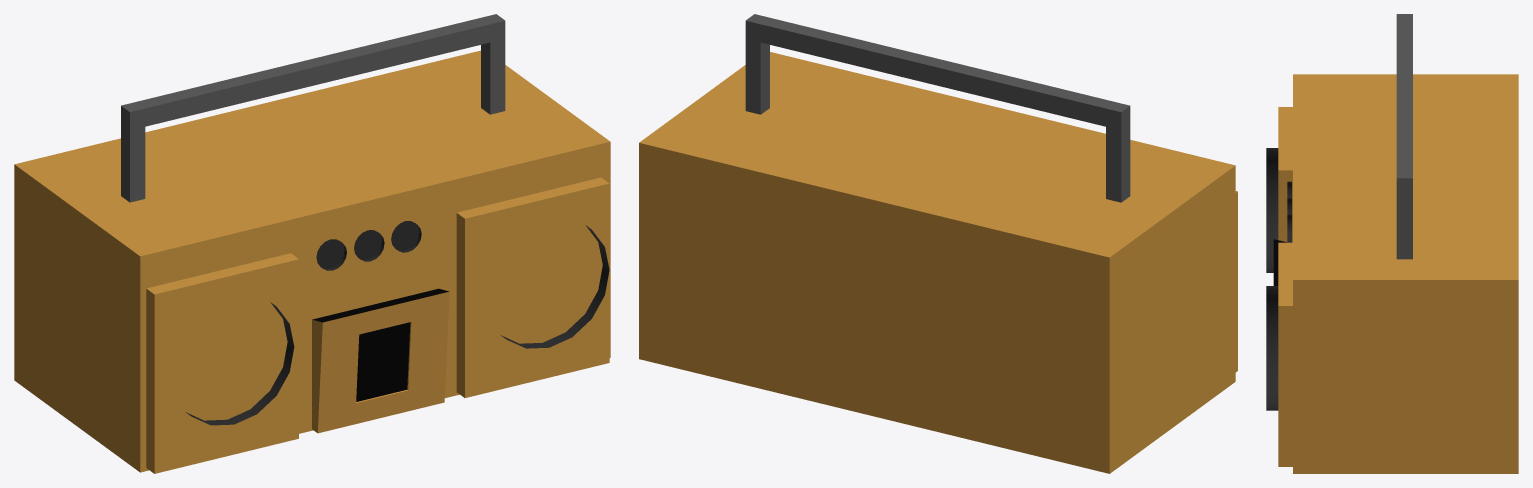
The model's file is Boombox.glb.
3 renders of one model, left to right at view 1: azimuth 30°, elevation 25°; view 2: azimuth 150°, elevation 25°; view 3: azimuth 270°, elevation 25°, orthographic. The views are drawn at different scales.
Parts seen in each view (by area): view 1: Cube, Cube.001, Cylinder, Cylinder.001, Cylinder.004, Cylinder.002, Cylinder.003; view 2: Cube, Cube.001; view 3: Cube, Cube.001, Cylinder, Cylinder.001.
Part boxes in pixels (x1=…): Cube: x1=14, y1=50, x2=610, y2=473; Cube.001: x1=121, y1=14, x2=505, y2=202; Cylinder: x1=501, y1=225, x2=609, y2=348; Cylinder.001: x1=186, y1=302, x2=294, y2=425; Cylinder.004: x1=391, y1=221, x2=421, y2=252; Cylinder.002: x1=316, y1=239, x2=346, y2=270; Cylinder.003: x1=354, y1=230, x2=384, y2=261; Cube: x1=639, y1=52, x2=1237, y2=473; Cube.001: x1=745, y1=14, x2=1130, y2=202; Cube: x1=1273, y1=74, x2=1518, y2=473; Cube.001: x1=1396, y1=14, x2=1412, y2=259; Cylinder: x1=1266, y1=286, x2=1278, y2=410; Cylinder.001: x1=1266, y1=148, x2=1278, y2=272.
Size of the model in its own units: 0.7404 by 0.4612 by 0.3841.
